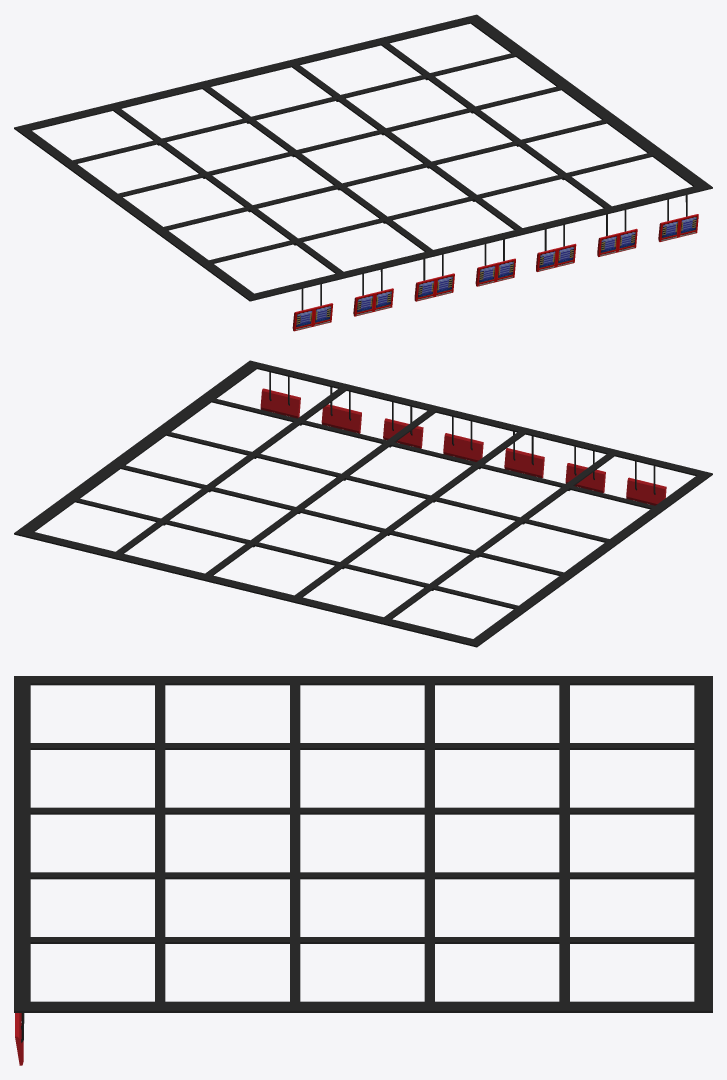
File: P_CeilingDetails.fbx
3 renders of one model, top to bottom at view 1: azimuth 30°, elevation 25°; view 2: azimuth 150°, elevation 25°; view 3: azimuth 270°, elevation 25°, orthographic. The views are drawn at different scales.
Parts seen in each view (by area): view 1: Empty_Mesh; view 2: Empty_Mesh; view 3: Empty_Mesh.
Boxes of the visible parts, <box> form: Empty_Mesh: <box>14,14,712,331</box>; Empty_Mesh: <box>14,360,712,647</box>; Empty_Mesh: <box>14,676,712,1065</box>.
Bounding box in the file's own units: 28.21 × 2.56 × 24.9.
